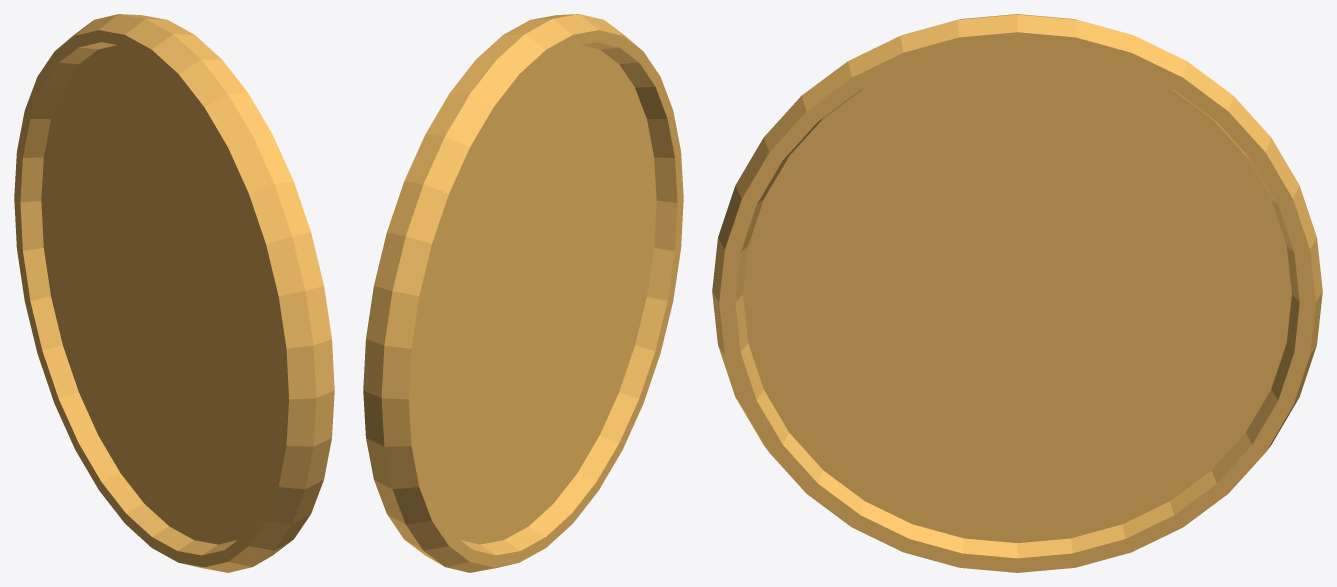
The model's file is coin.gltf.
The picture shows the model from 3 angles, left to right: view 1: azimuth 30°, elevation 25°; view 2: azimuth 150°, elevation 25°; view 3: azimuth 270°, elevation 25°; orthographic projection. The views are drawn at different scales.
Parts seen in each view (by area): view 1: Cylinder; view 2: Cylinder; view 3: Cylinder.
Part boxes in pixels (box(x1,y1,x2,y2)): Cylinder: box(14, 14, 334, 572); Cylinder: box(363, 14, 683, 572); Cylinder: box(712, 14, 1322, 572).
Size of the model in its own units: 0.1869 by 2.14 by 2.14.
